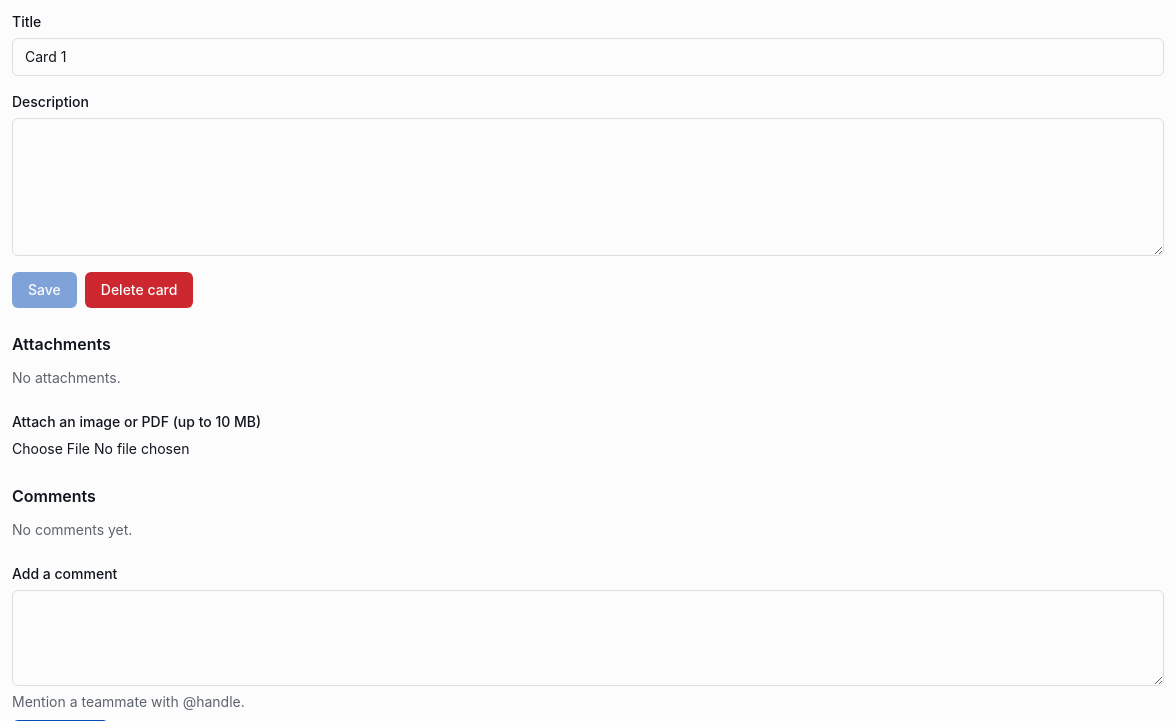
Test case: editing a card that someone else changed › shows their version, keeps what I typed, and lets me save mine on top
Replace the text in the field labelled "Title" with "My title": (588, 57) [12,38,1164,76]
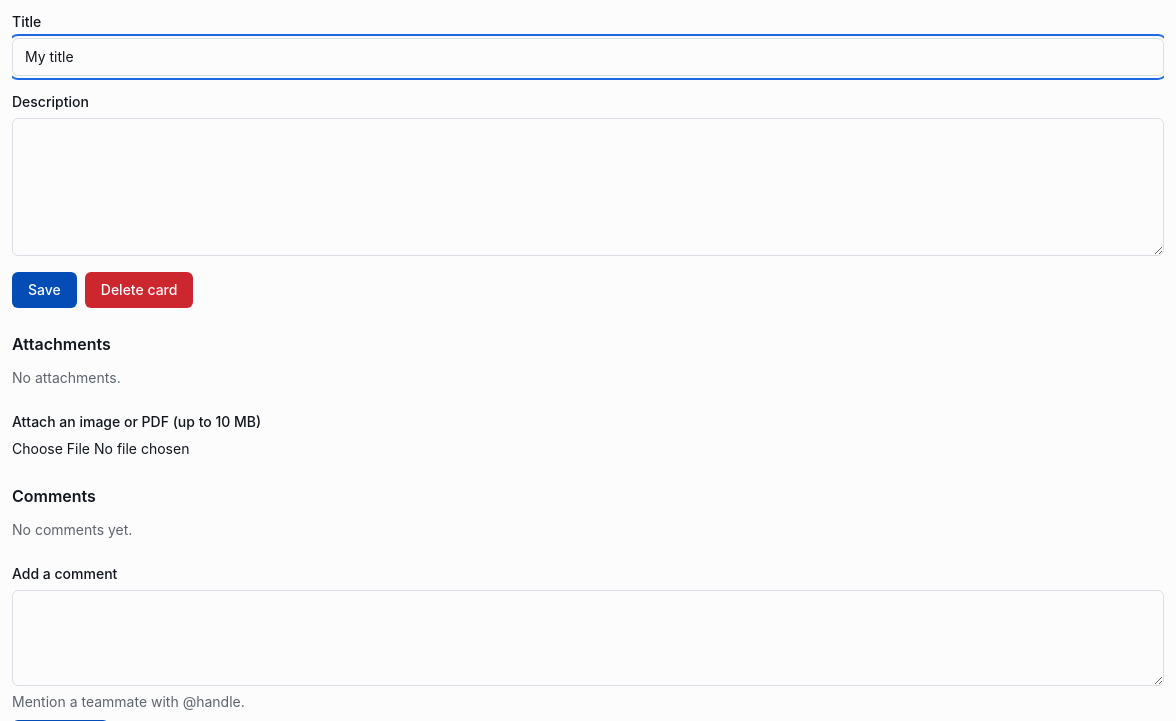
In the text box labelled "Description": (588, 187) [12,118,1164,256], type "My long description that took a while to write"
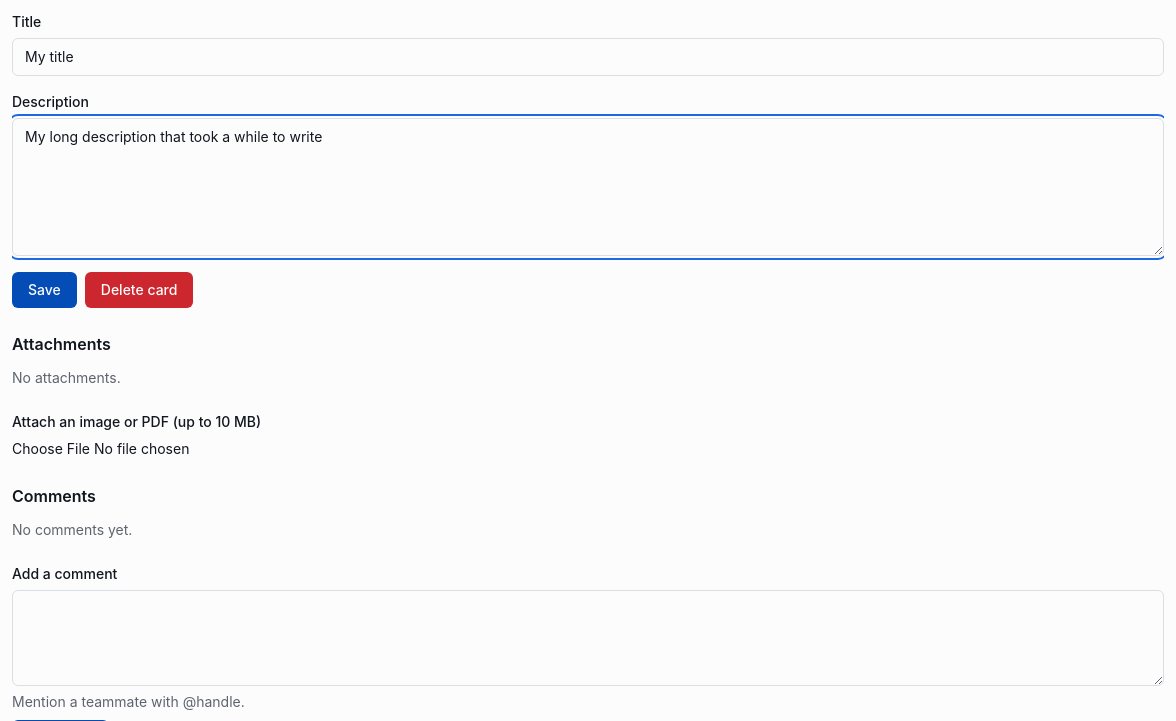
Click the button "Save": (44, 290) [12,272,77,308]
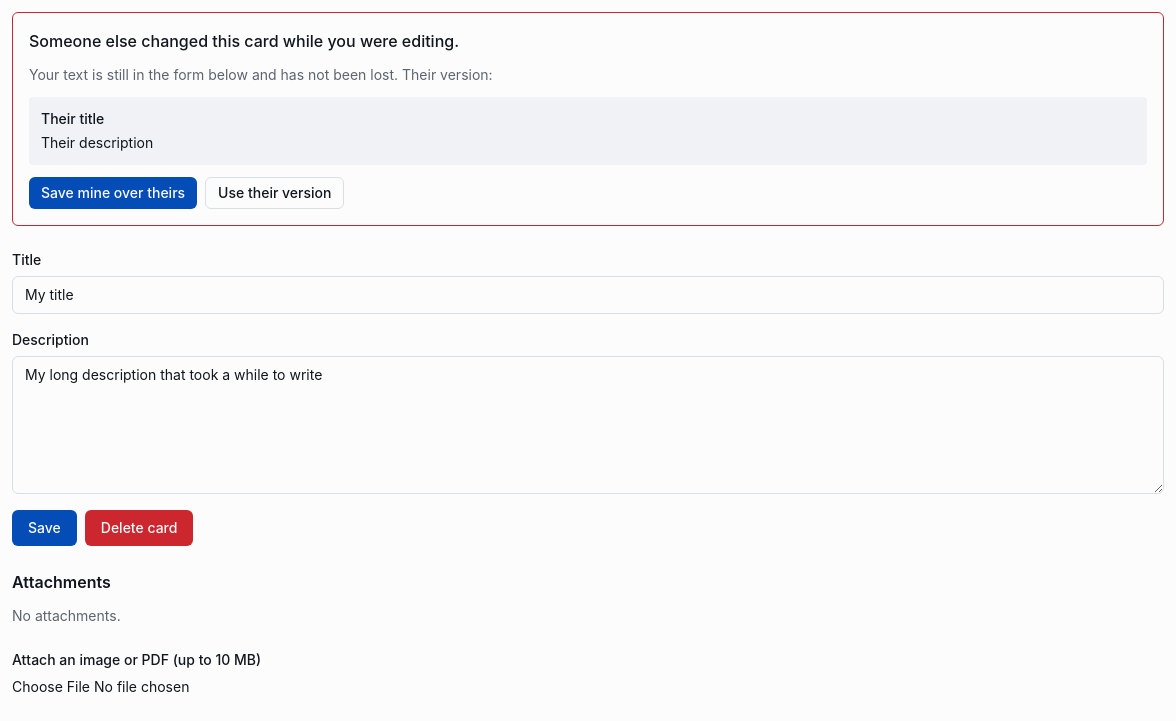
Expected: the text "Their title" is shown, [41,110,104,127]
Expected: the text "Their description" is shown, [41,134,153,151]
Click the button "Save mine over theirs": (113, 193) [29,177,197,209]
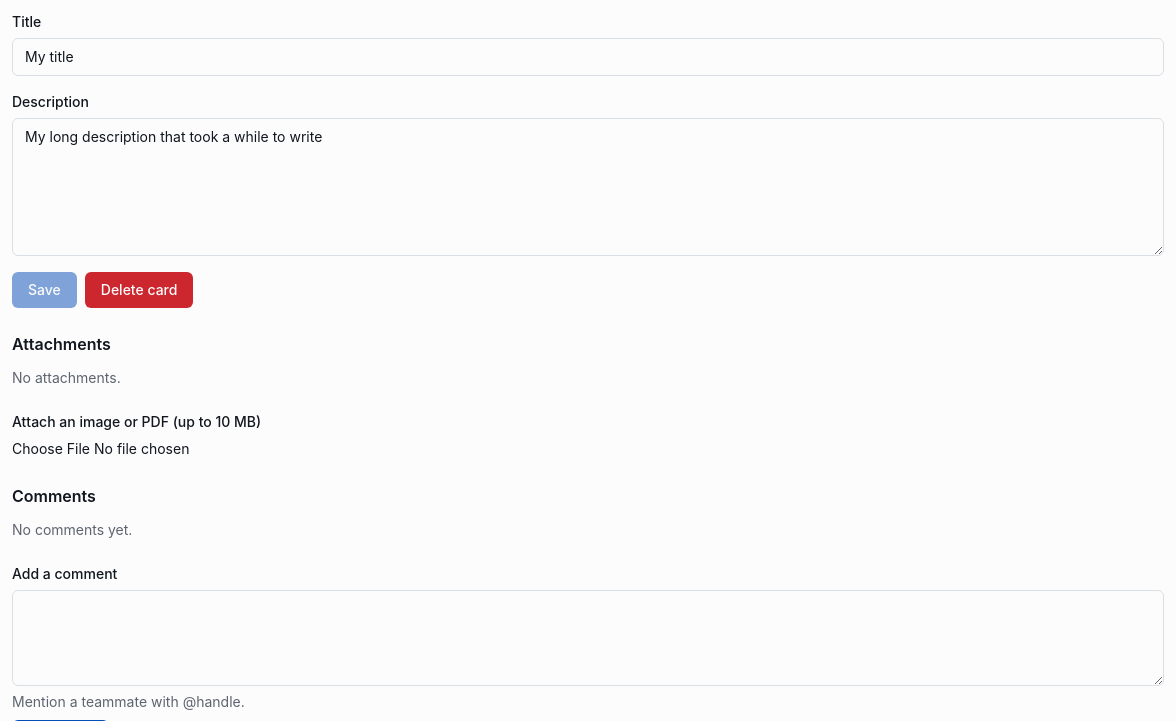
Expected: the text "Someone else changed this card" is gone
